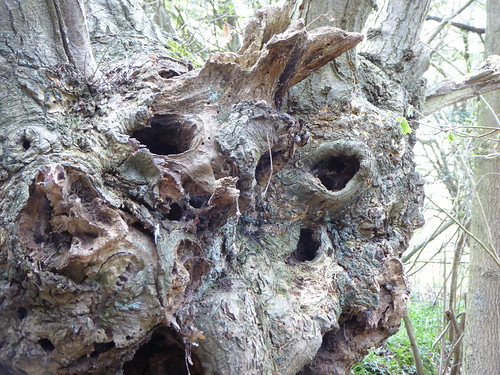tree: (7, 34, 427, 358)
